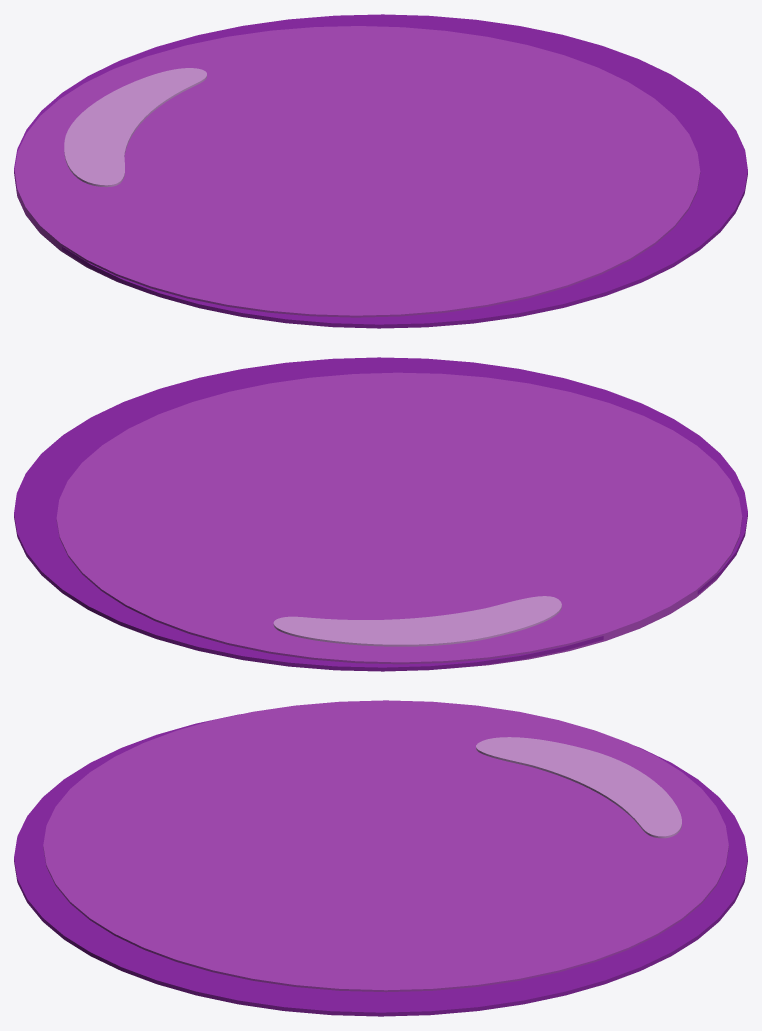
The model's file is emoji_u1f7e3.glb.
3 views of the same model, one above another, from view 1: azimuth 30°, elevation 25°; view 2: azimuth 150°, elevation 25°; view 3: azimuth 270°, elevation 25° (orthographic).
Visible parts, largest first — view 1: emoji_u1f7e3; view 2: emoji_u1f7e3; view 3: emoji_u1f7e3.
Boxes of the visible parts, x1,y1,x2,y2 form: emoji_u1f7e3: (14, 14, 747, 328); emoji_u1f7e3: (14, 357, 747, 671); emoji_u1f7e3: (14, 700, 747, 1016).
Size of the model in its own units: 0.0339 by 0.0006 by 0.0339.
